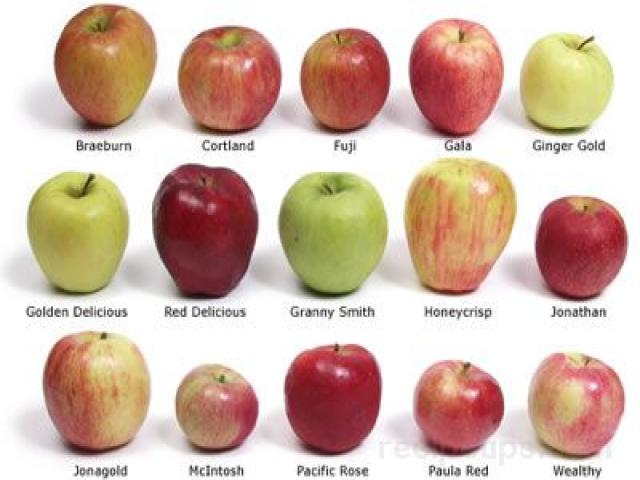apple: (147, 162, 260, 300), (404, 158, 517, 296), (278, 170, 389, 296), (40, 328, 152, 449), (53, 4, 159, 130), (28, 170, 132, 293), (406, 17, 504, 136), (179, 24, 283, 134), (282, 344, 382, 453), (526, 351, 625, 456), (532, 195, 627, 301), (300, 27, 391, 133), (413, 359, 505, 454), (173, 364, 259, 453)
